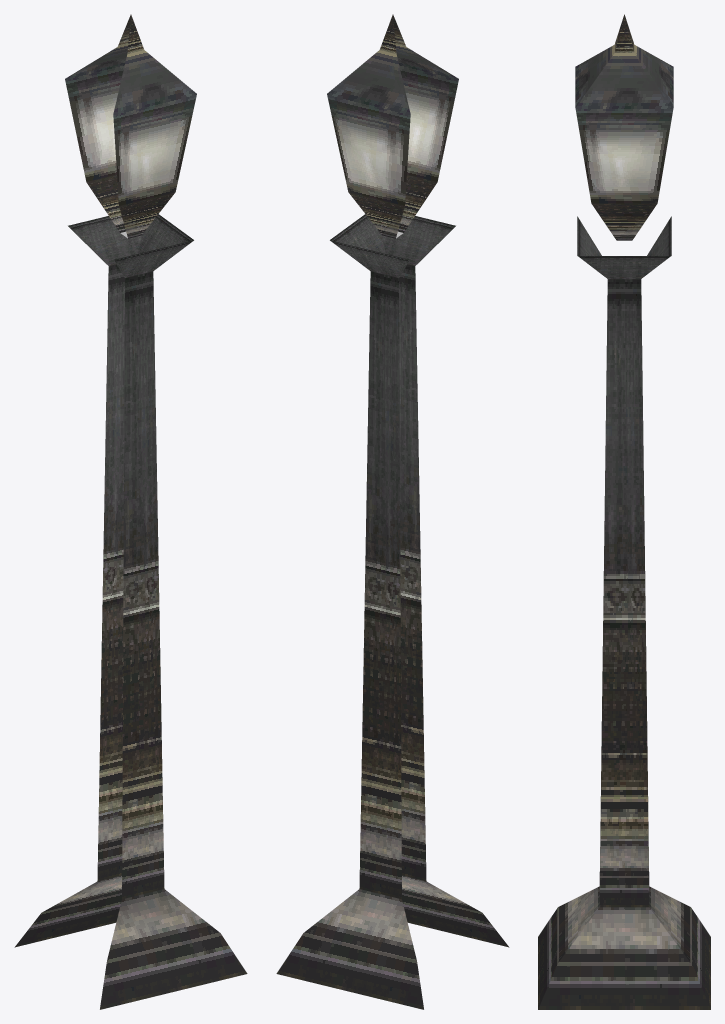
Rendered from stage-newy-p4-84.glb.
3 renders of one model, left to right at view 1: azimuth 30°, elevation 25°; view 2: azimuth 150°, elevation 25°; view 3: azimuth 270°, elevation 25°, orthographic.
Size of the model in its own units: 1.63 by 9.97 by 1.63.
3 materials, 2 textured.
